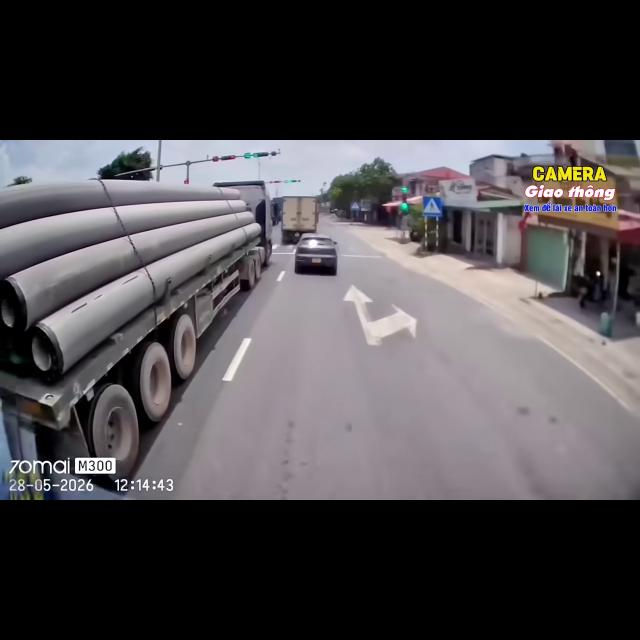car: (295, 233, 337, 274)
truck: (0, 220, 271, 479), (214, 181, 273, 264), (281, 197, 318, 243)
